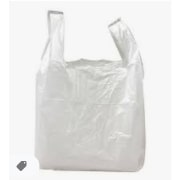kantong: (33, 9, 146, 173)
